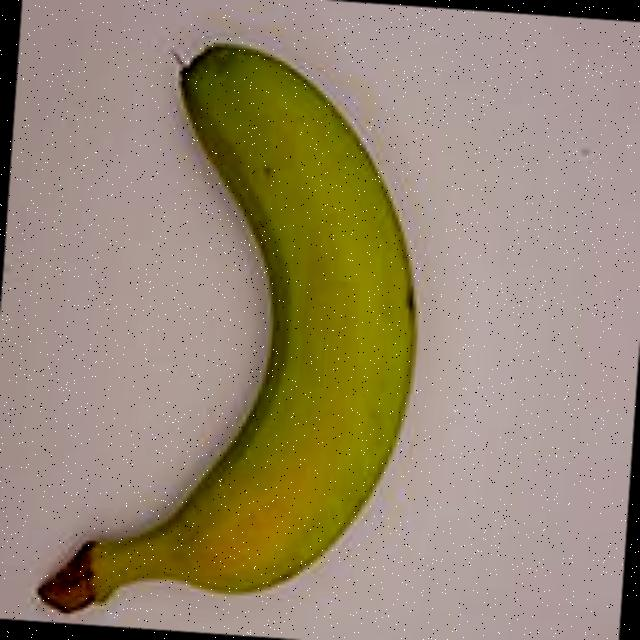Unripe: (18, 11, 454, 640)
